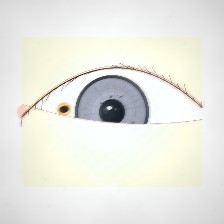foreign_body_visible: (41, 90, 88, 128)
